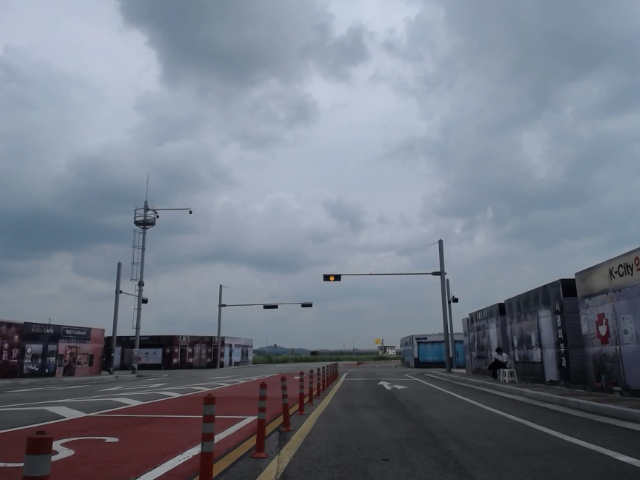orange_3: (322, 274, 341, 281)
